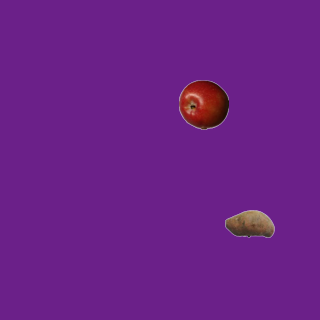Apple Braeburn: (178, 79, 228, 129)
Potato Sweet: (224, 198, 274, 248)
